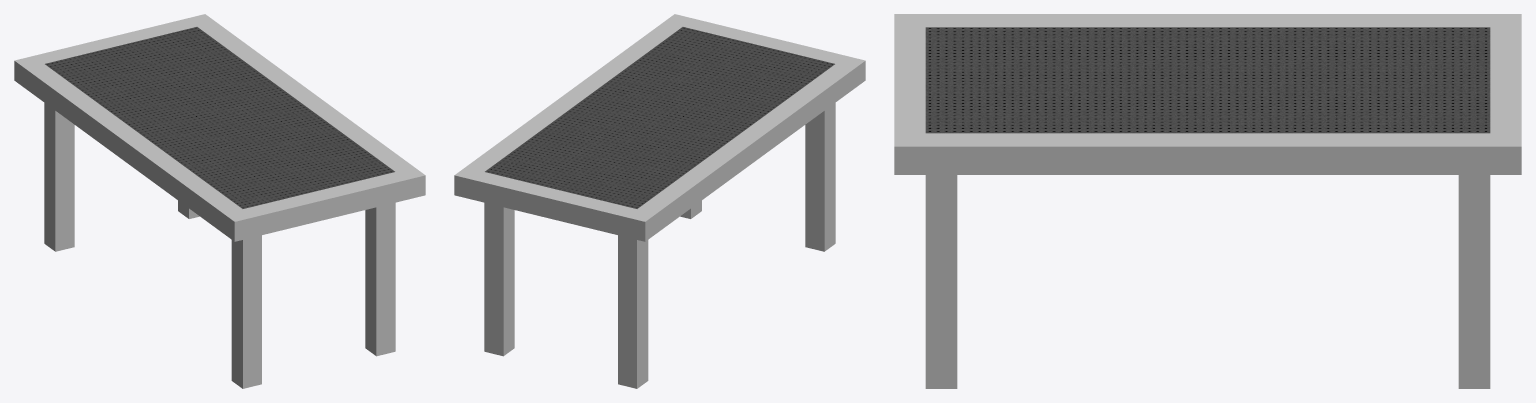
The model's file is Decor_Table.FBX.
3 renders of one model, left to right at view 1: azimuth 30°, elevation 25°; view 2: azimuth 150°, elevation 25°; view 3: azimuth 270°, elevation 25°, orthographic. The views are drawn at different scales.
Visible parts, largest first — view 1: Decor_Table; view 2: Decor_Table; view 3: Decor_Table.
Boxes of the visible parts, left/top/right/bottom form: Decor_Table: left=14, top=14, right=425, bottom=388; Decor_Table: left=454, top=14, right=865, bottom=388; Decor_Table: left=894, top=14, right=1521, bottom=388.
Bounding box in the file's own units: 1 × 0.9 × 2.
